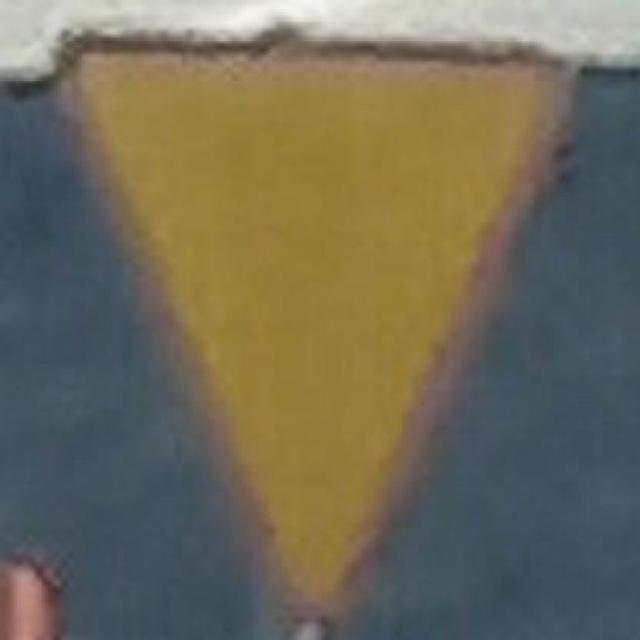Ustap pierwszenstwa: (57, 32, 581, 626)
